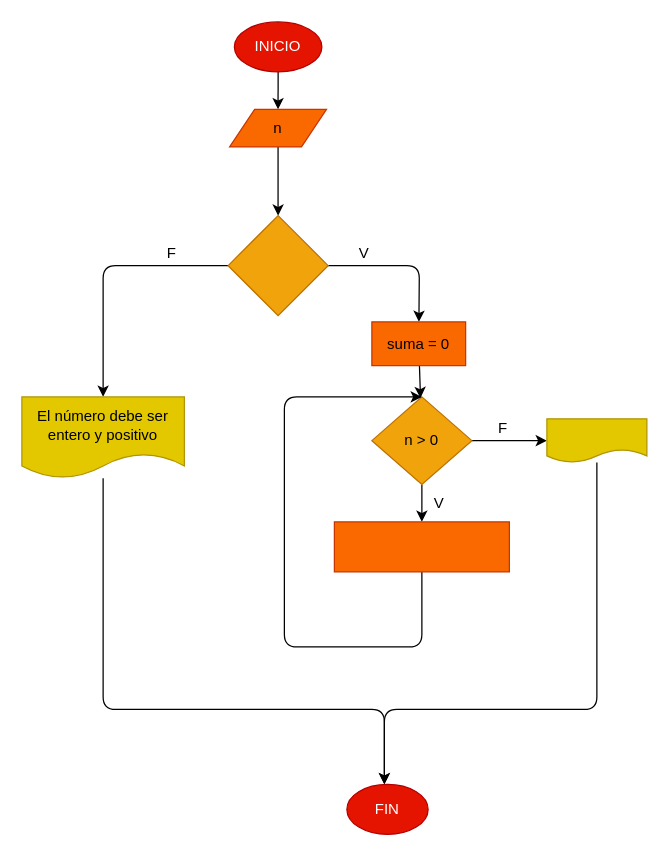
Some shapes in this 669 by 856 pixel diagram are drawn without their labels. The centre of each missing label's shape, as x and y in pixels:
"n >= 0" goes at (277,265).
"suma" goes at (596,440).
"suma = suma + n % 10 n = n // 10" goes at (421,546).
